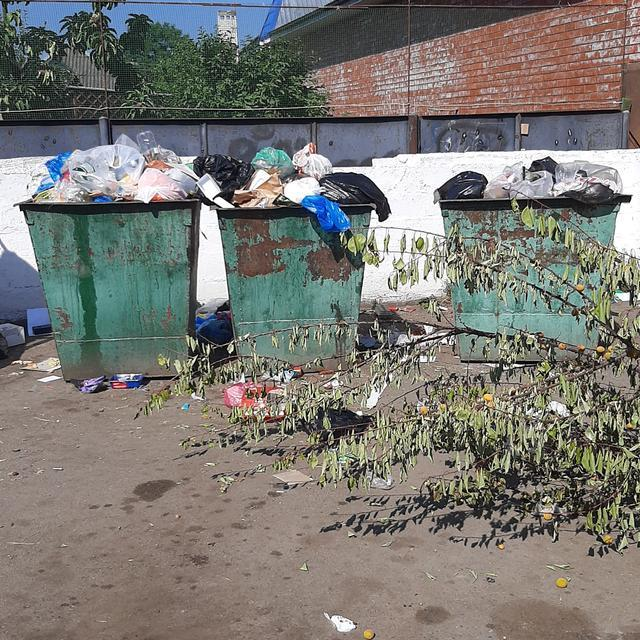Trash_Can_Full: (14, 131, 207, 383), (213, 140, 394, 379), (432, 155, 633, 364)
